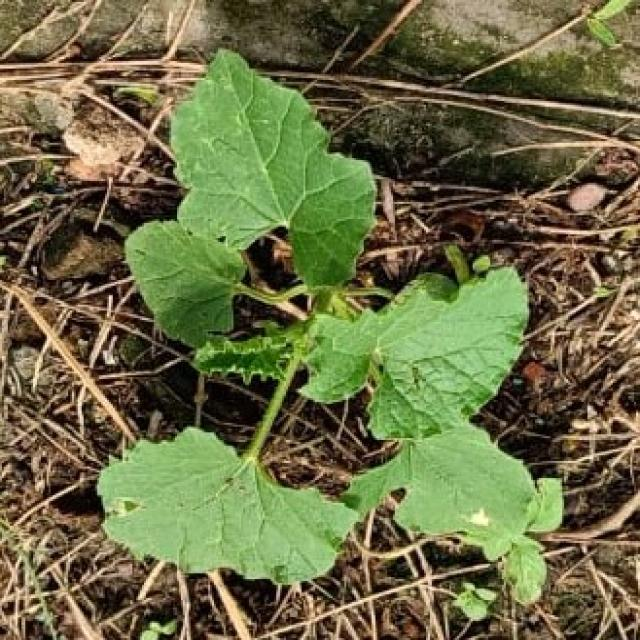plant: (98, 52, 560, 602)
